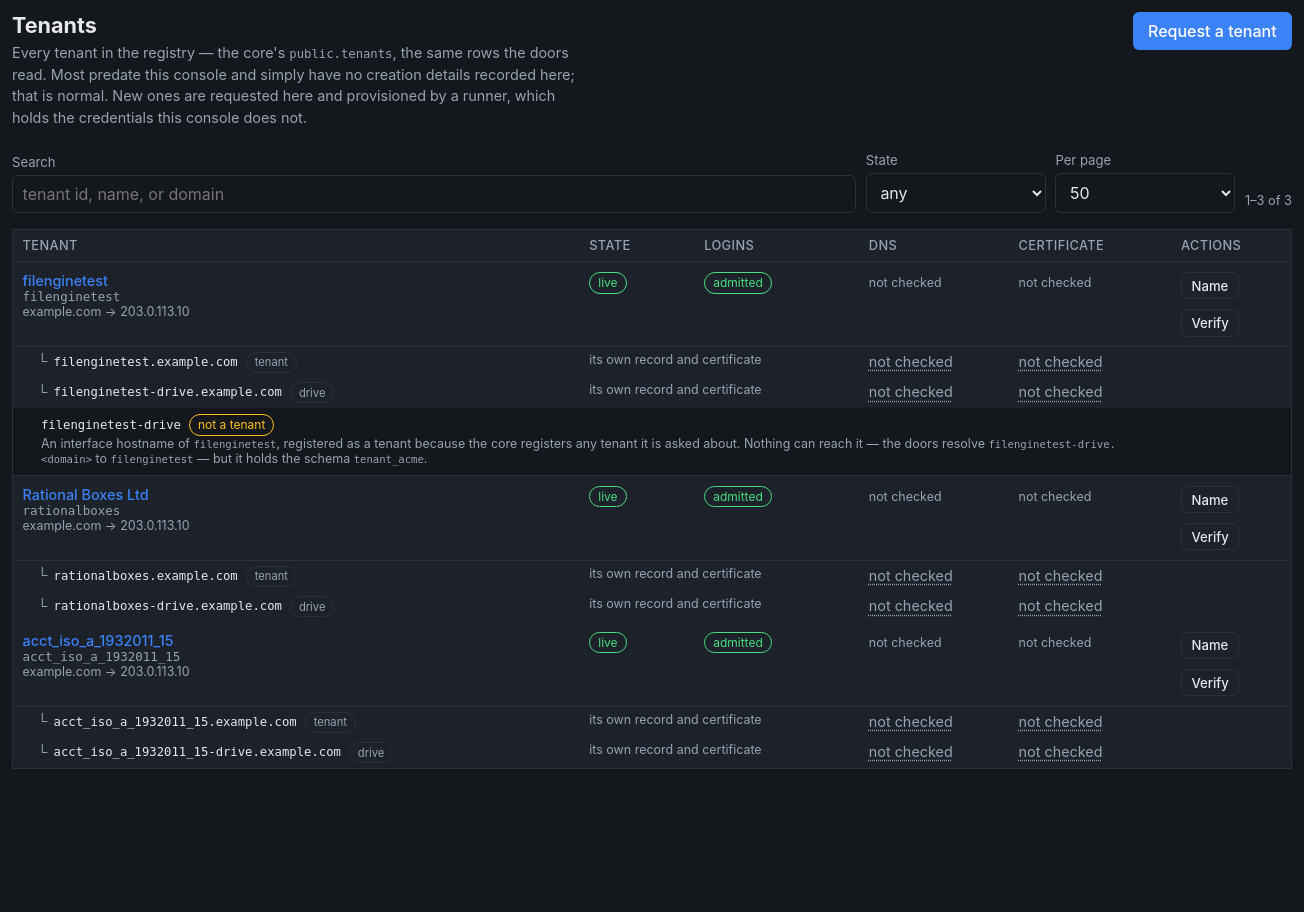
Test: the search filter › does not treat the term as a regex
Type "(" into the search field labelled "Search" at (434, 194), box 12,175 -> 856,213
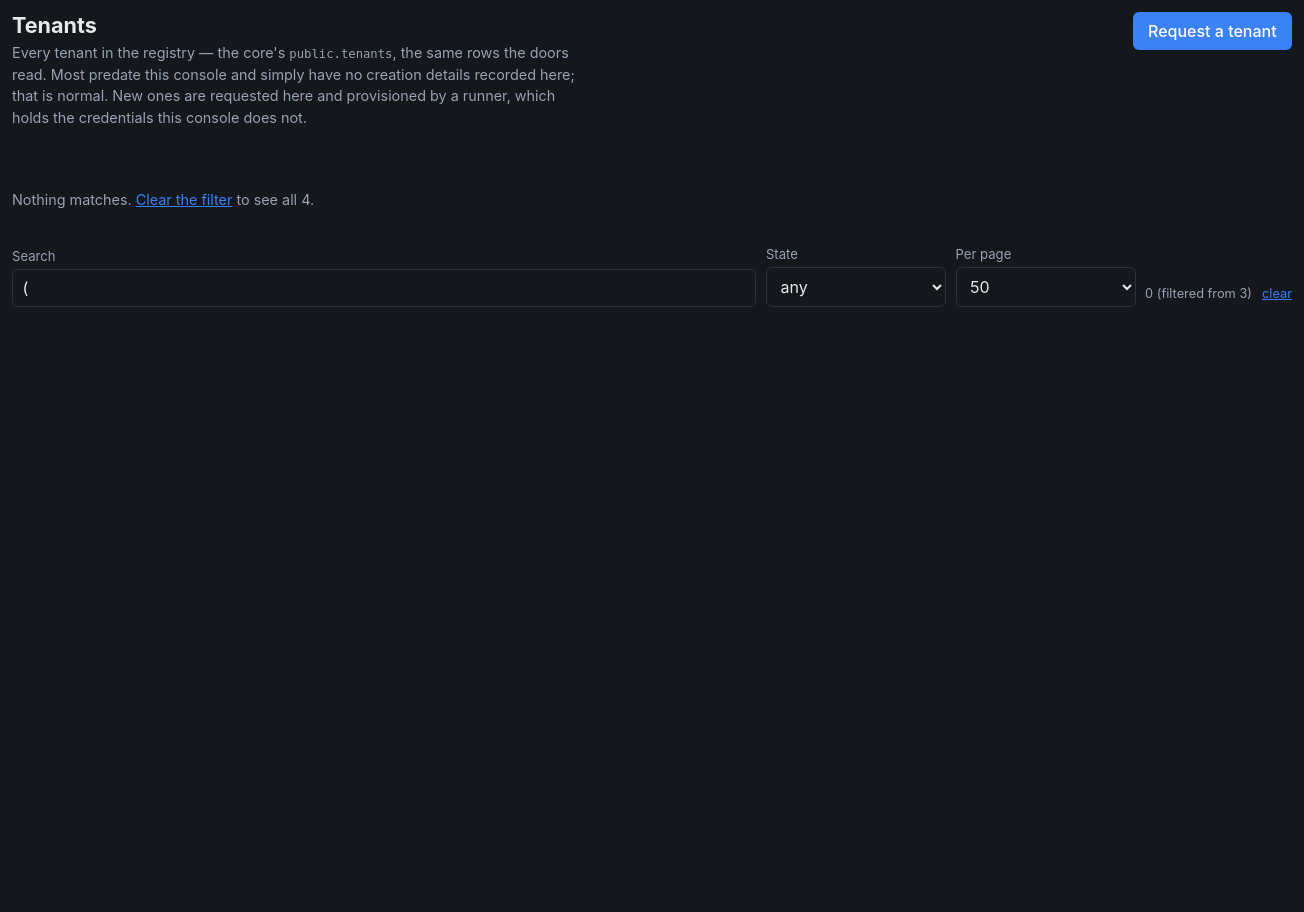
Expected: the text "Nothing matches" is shown, 12,191 -> 136,208
